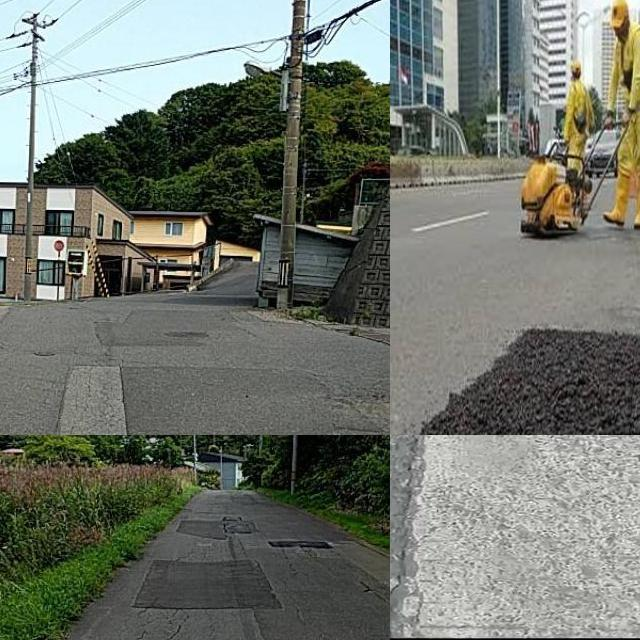Sambungan: (390, 435, 640, 640), (425, 327, 640, 435), (136, 558, 282, 609), (58, 363, 129, 435)
